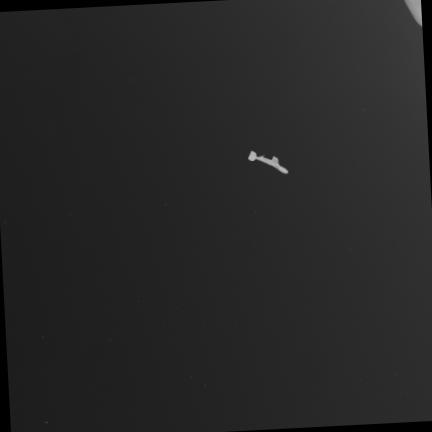Shahed: (248, 150, 288, 173)
